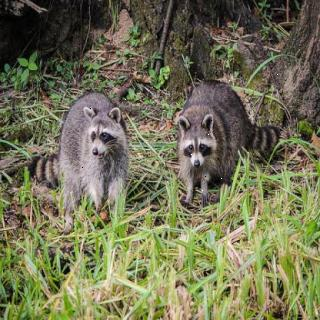raccoon: (171, 72, 285, 212), (50, 88, 134, 232)
